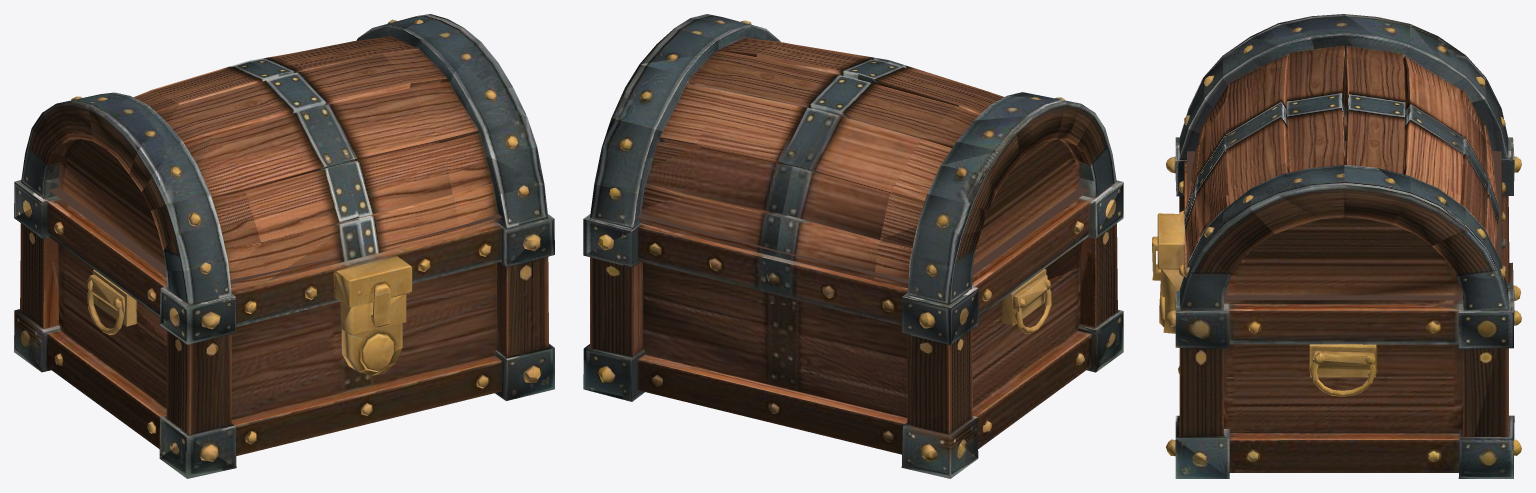
File: chest.glb
3 views of the same model, side by side, from view 1: azimuth 30°, elevation 25°; view 2: azimuth 150°, elevation 25°; view 3: azimuth 270°, elevation 25° (orthographic). The views are drawn at different scales.
Parts seen in each view (by area): view 1: Frame, Lid; view 2: Frame, Lid; view 3: Lid, Frame.
Boxes of the visible parts, <box> form: Frame: <box>14,175,554,478</box>; Lid: <box>22,14,547,296</box>; Frame: <box>583,175,1123,478</box>; Lid: <box>591,14,1115,296</box>; Lid: <box>1181,14,1506,302</box>; Frame: <box>1152,132,1521,478</box>.
Size of the model in its own units: 0.768 by 0.6 by 0.6855.
Materials: 1 (1 with a texture image).
